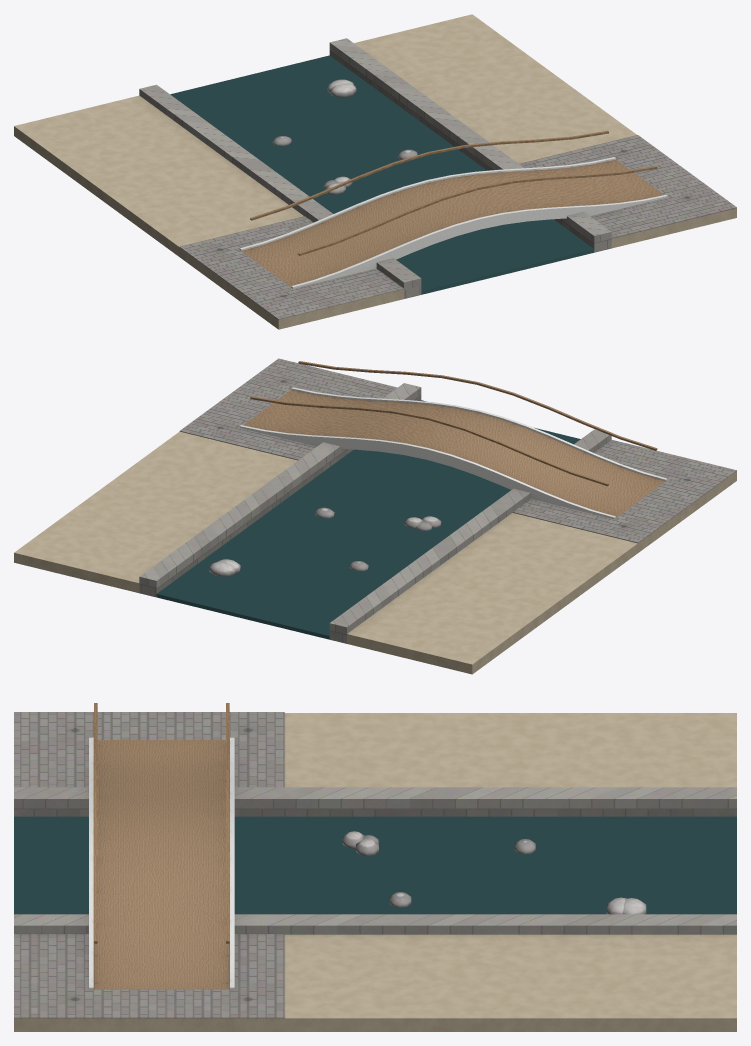
Rendered from IlsanStreamBridge_LOD2.fbx.
3 views of the same model, one above another, from view 1: azimuth 30°, elevation 25°; view 2: azimuth 150°, elevation 25°; view 3: azimuth 270°, elevation 25° (orthographic). The views are drawn at different scales.
Visible parts, largest first — view 1: IlsanStreamBridge_LOD2; view 2: IlsanStreamBridge_LOD2; view 3: IlsanStreamBridge_LOD2.
Boxes of the visible parts, x1,y1,x2,y2 form: IlsanStreamBridge_LOD2: [14, 14, 736, 329]; IlsanStreamBridge_LOD2: [14, 358, 736, 674]; IlsanStreamBridge_LOD2: [14, 703, 736, 1031].
Bounding box in the file's own units: 15.9 × 2.13 × 15.9.
1 material, 1 textured.
